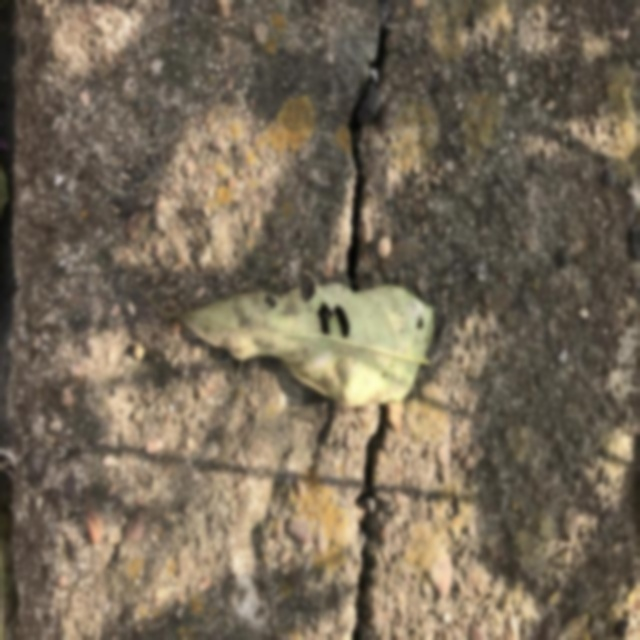SurfaceCrack: (254, 1, 485, 640)
